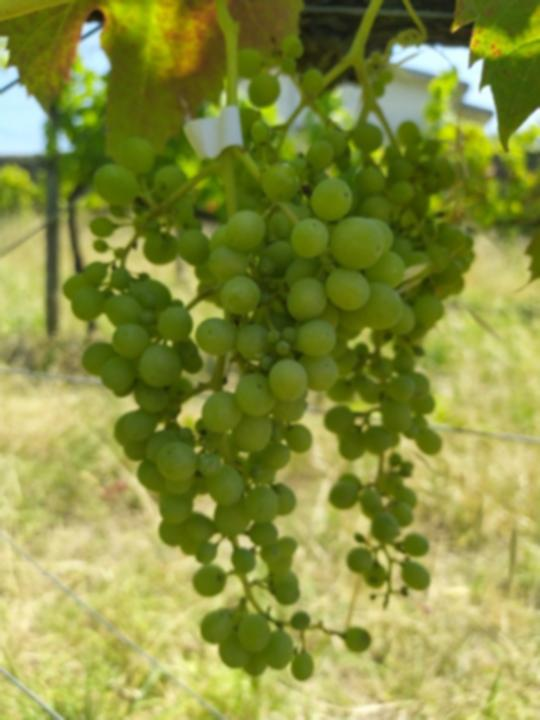grape: (64, 110, 404, 683)
